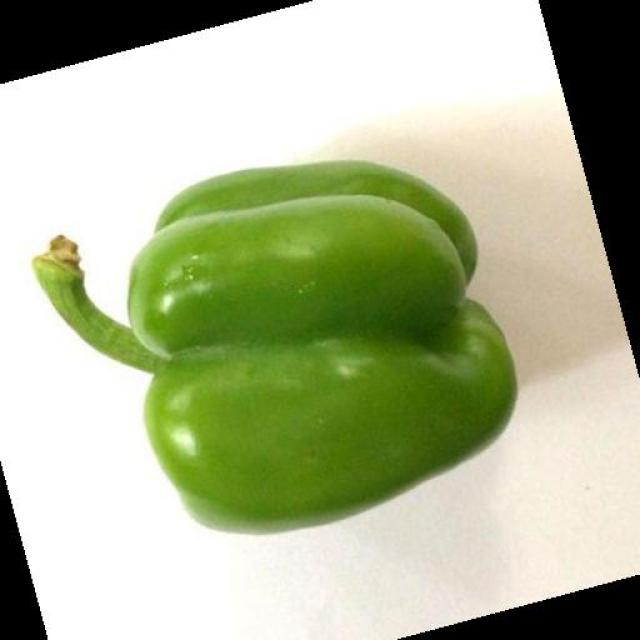Fresh_Capsicum: (23, 185, 548, 512)
